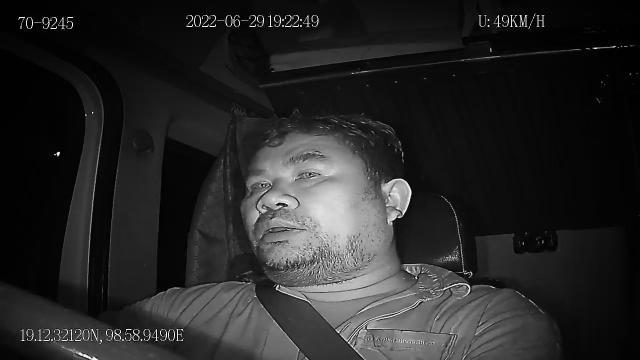SafeDriving: (292, 160, 331, 187), (241, 170, 277, 199)
Seatbelt: (250, 272, 370, 360)
